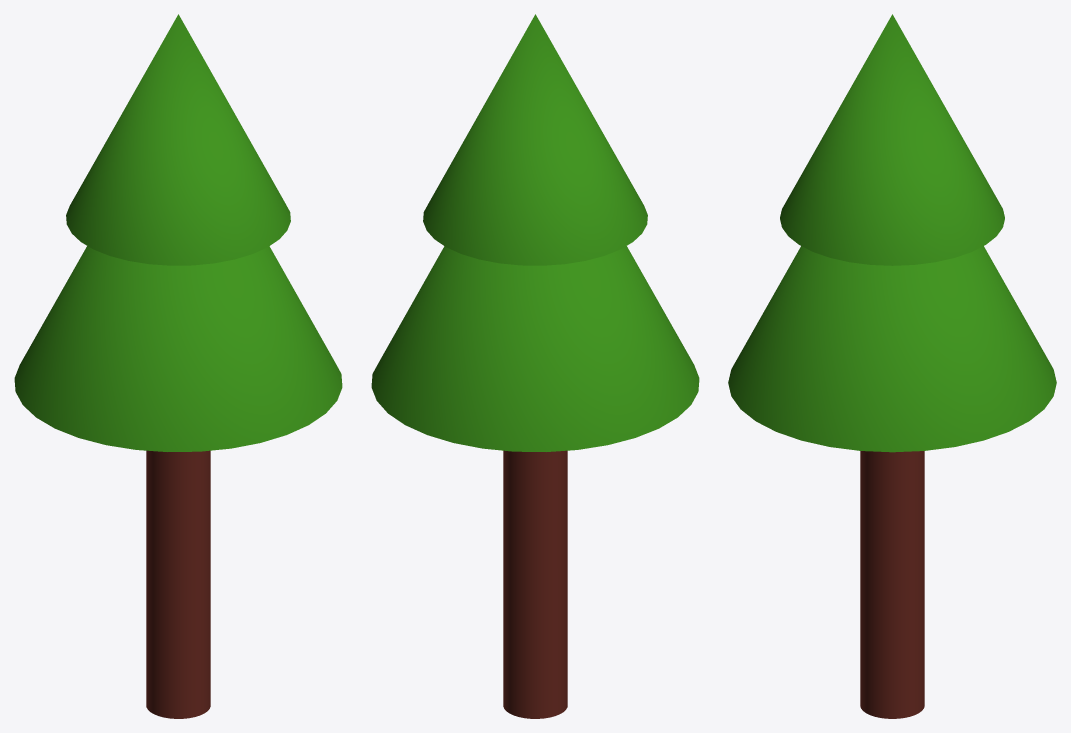
Rendered from Tree.fbx.
The picture shows the model from 3 angles, left to right: view 1: azimuth 30°, elevation 25°; view 2: azimuth 150°, elevation 25°; view 3: azimuth 270°, elevation 25°; orthographic projection.
Parts seen in each view (by area): view 1: Cone, Cone.001, Cylinder; view 2: Cone, Cone.001, Cylinder; view 3: Cone, Cone.001, Cylinder.
Boxes of the visible parts, x1=… form: Cone: x1=14, y1=246, x2=342, y2=451; Cone.001: x1=66, y1=14, x2=290, y2=265; Cylinder: x1=146, y1=450, x2=210, y2=718; Cone: x1=371, y1=246, x2=699, y2=451; Cone.001: x1=423, y1=14, x2=647, y2=265; Cylinder: x1=503, y1=450, x2=567, y2=718; Cone: x1=728, y1=246, x2=1056, y2=452; Cone.001: x1=780, y1=14, x2=1004, y2=265; Cylinder: x1=860, y1=451, x2=924, y2=718.
Bounding box in the file's own units: 2 × 4.64 × 2.
